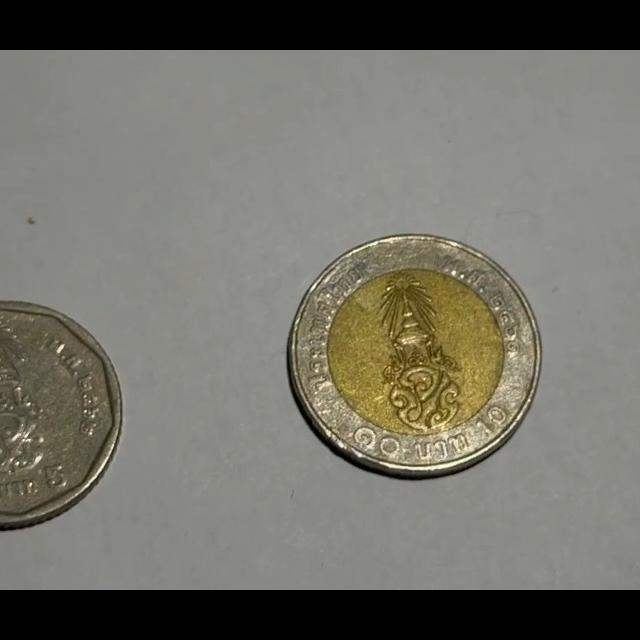10-baht: (288, 234, 539, 477)
5-baht: (0, 301, 121, 529)
